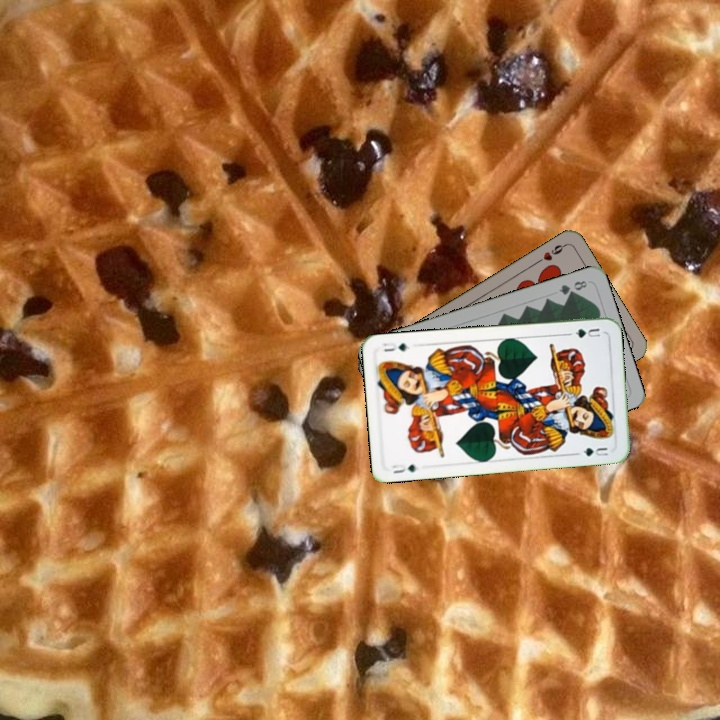G8: (555, 276, 590, 297)
GU: (570, 324, 603, 341), (388, 460, 419, 476)
H9: (532, 240, 568, 266)
